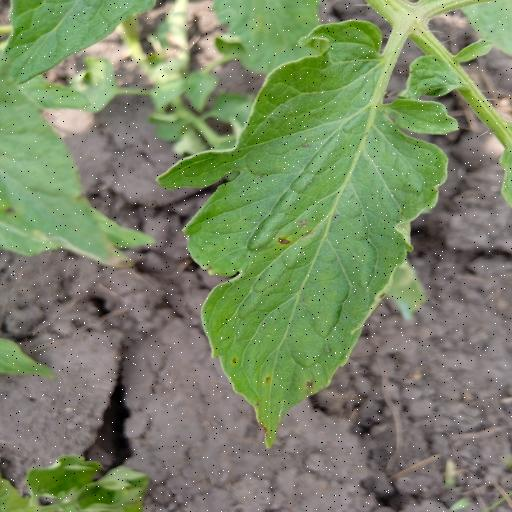Tomato_Mildiou: (157, 24, 454, 449)
